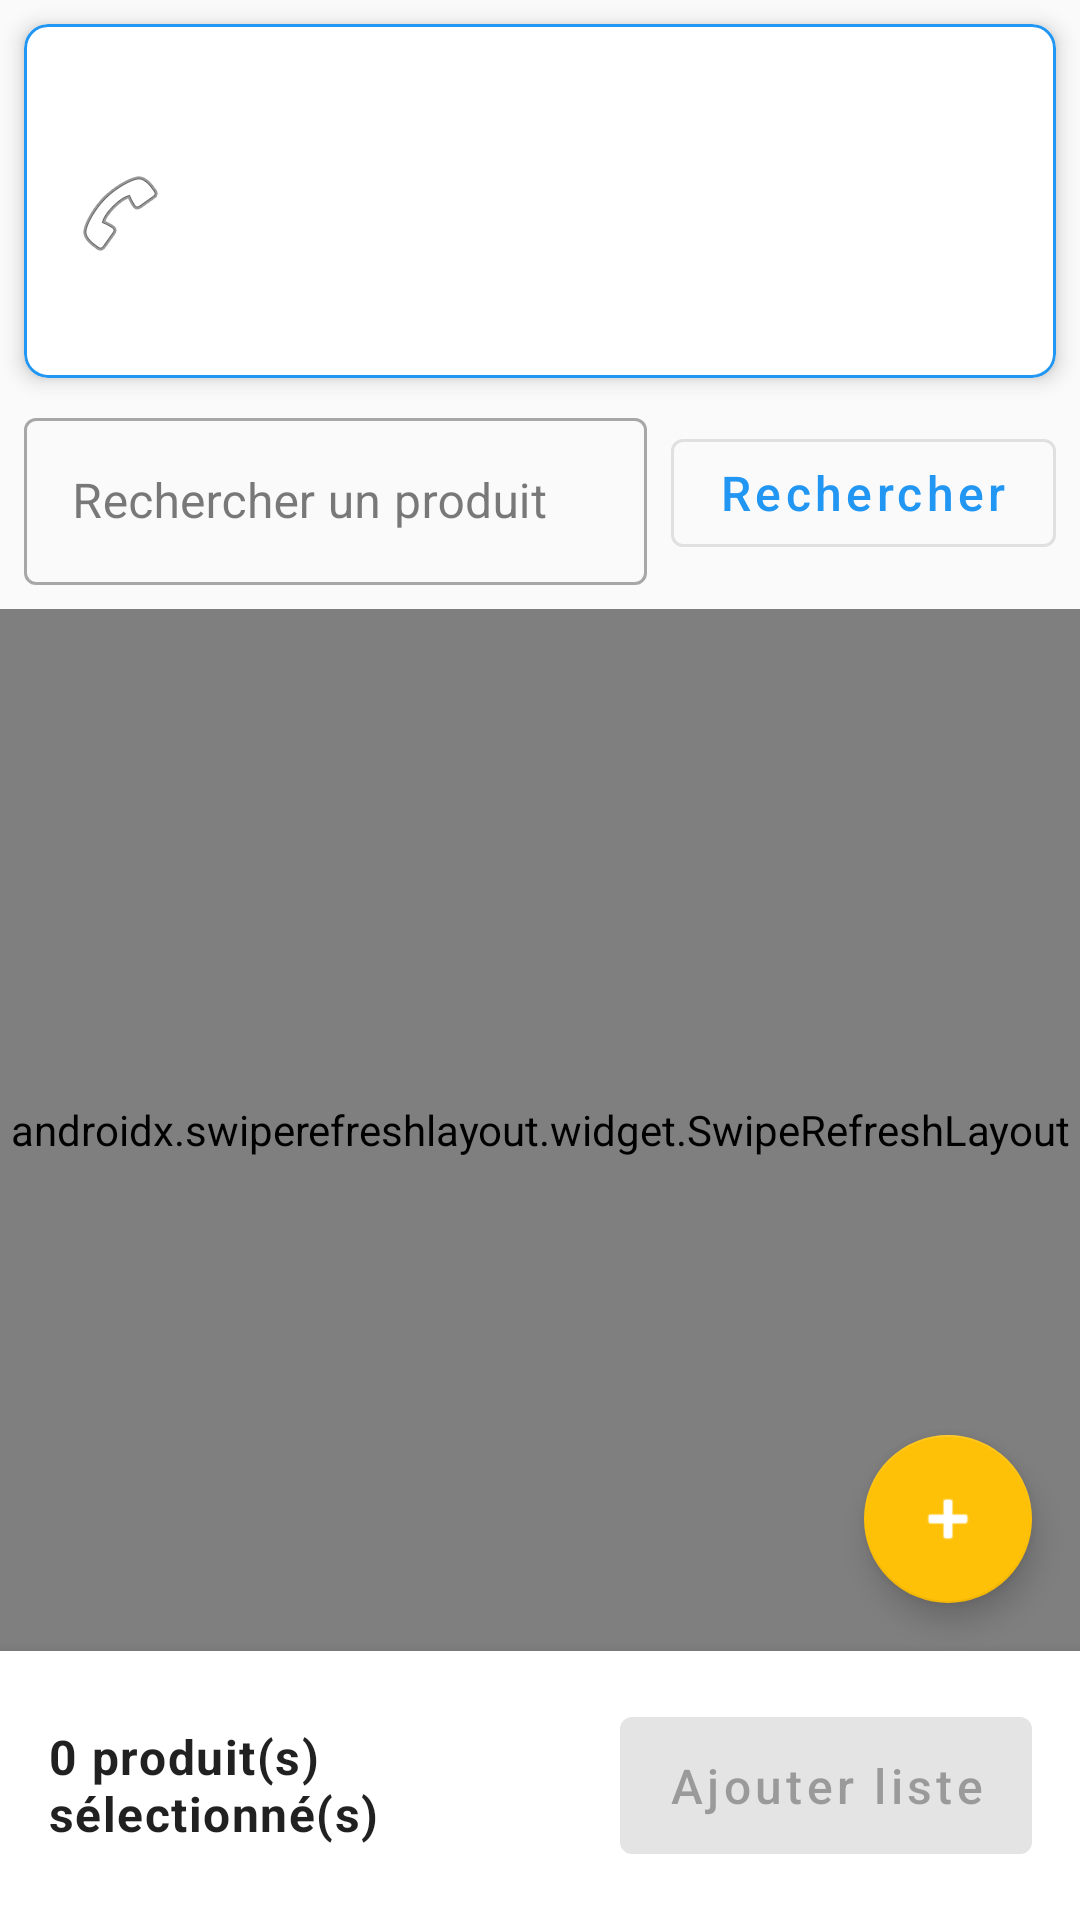

Named icons in this screenshot (1080×1920) and their centers, (x,y):
add: (948,1519)
